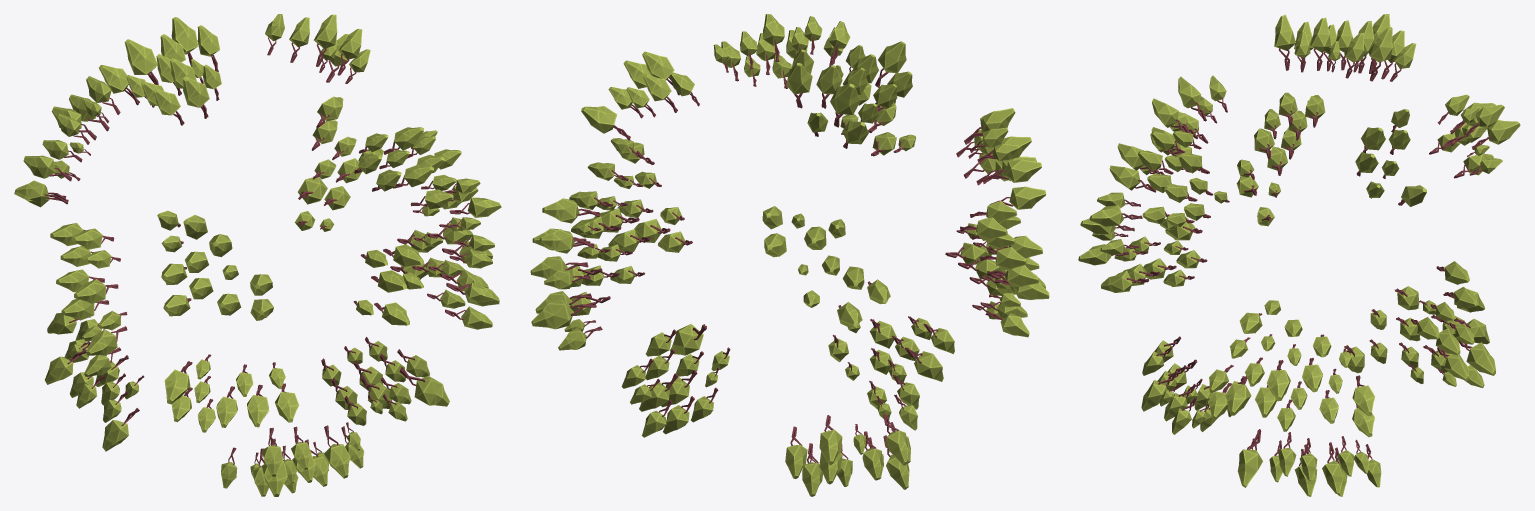
Rendered from Trees.fbx.
The picture shows the model from 3 angles, left to right: view 1: azimuth 30°, elevation 25°; view 2: azimuth 150°, elevation 25°; view 3: azimuth 270°, elevation 25°; orthographic projection. The views are drawn at different scales.
Visible parts, largest first — view 1: Cube.132; view 2: Cube.132; view 3: Cube.132.
Boxes of the visible parts, x1=… form: Cube.132: x1=14, y1=14, x2=501, y2=496; Cube.132: x1=530, y1=14, x2=1049, y2=496; Cube.132: x1=1078, y1=14, x2=1520, y2=496.
Size of the model in its own units: 2265 by 2068 by 2087.
